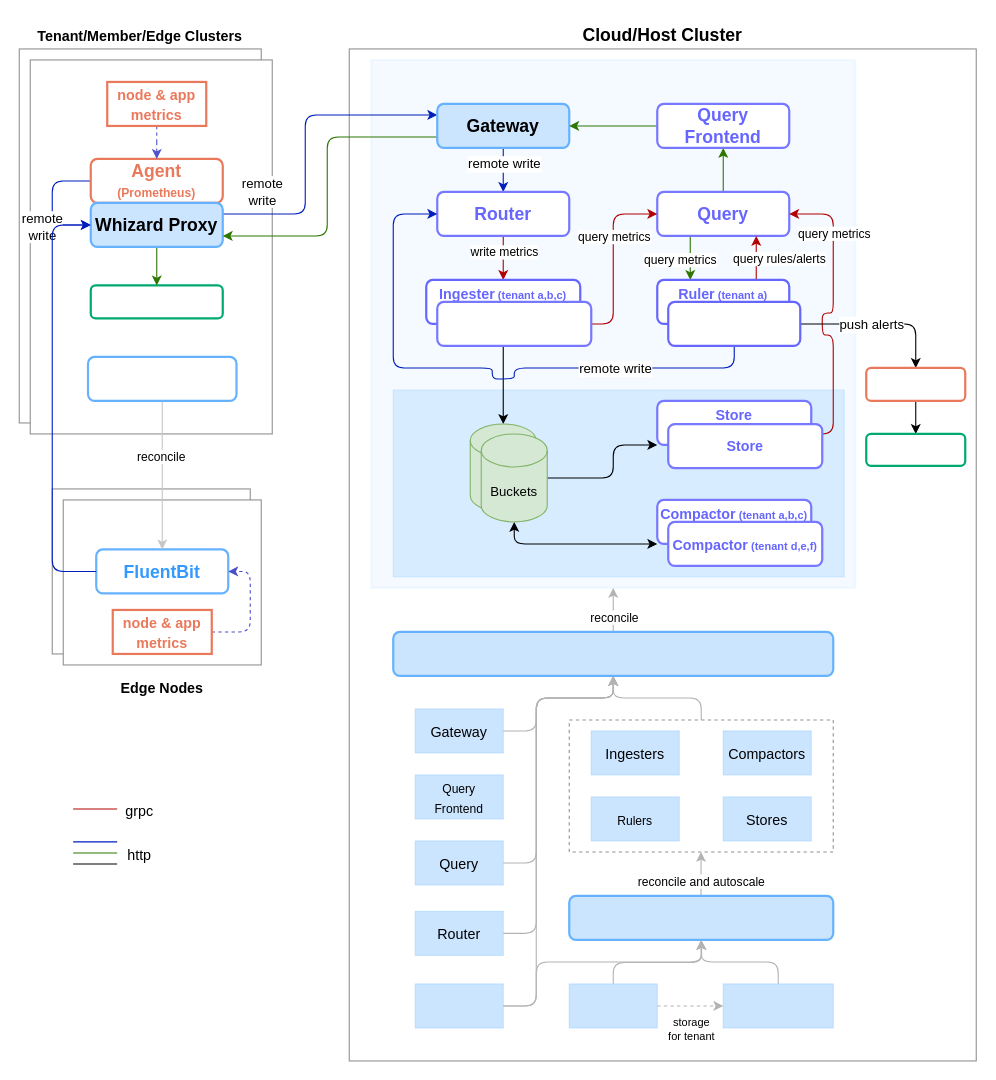
Image size: 996x1080. Some labels were removed from this diagram. The box of each missing label's shape, as (x1, y1, x2, y2) in pixels:
Alertmanager: (865, 366, 966, 402)
Fluent Operator: (86, 355, 237, 402)
Ingester (tenant d,e,f): (436, 300, 592, 346)
ks-apiserver: (89, 284, 223, 319)
Notification manager: (865, 432, 966, 466)
object storage: (392, 389, 844, 577)
Ruler (tenant b): (667, 300, 801, 346)
Service: (414, 983, 503, 1028)
Storages: (568, 983, 657, 1028)
Tenants/Clusters: (722, 983, 833, 1028)
Whizard Controller Manager: (392, 630, 834, 676)
Whizard Controller Manager Tenant Controller: (568, 894, 834, 941)
Whizard Service: (370, 58, 856, 588)
